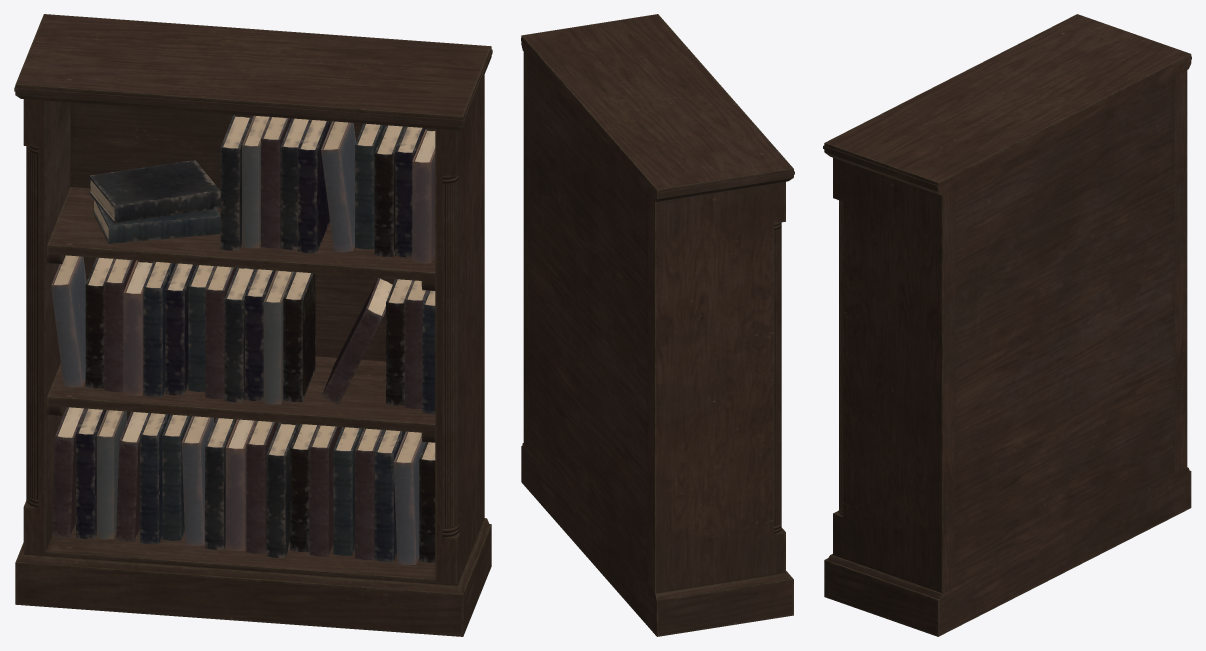
Rendered from books2.glb.
3 views of the same model, side by side, from view 1: azimuth 30°, elevation 25°; view 2: azimuth 150°, elevation 25°; view 3: azimuth 270°, elevation 25° (orthographic). The views are drawn at different scales.
Parts seen in each view (by area): view 1: Victorian Bookcase Small, Victorian Bookcase Small Books 1, Victorian Bookcase Small Books 2, Victorian Bookcase Small Books 4, Victorian Bookcase Small Corner, Victorian Bookcase Small Books 3, Victorian Bookcase Small Books 5; view 2: Victorian Bookcase Small, Victorian Bookcase Small Corner; view 3: Victorian Bookcase Small, Victorian Bookcase Small Corner.
Part boxes in pixels (<box>): Victorian Bookcase Small: <box>14,14,492,636</box>; Victorian Bookcase Small Books 1: <box>52,407,435,565</box>; Victorian Bookcase Small Books 2: <box>51,255,315,404</box>; Victorian Bookcase Small Books 4: <box>220,115,435,263</box>; Victorian Bookcase Small Corner: <box>26,146,458,536</box>; Victorian Bookcase Small Books 3: <box>322,278,435,414</box>; Victorian Bookcase Small Books 5: <box>89,160,220,243</box>; Victorian Bookcase Small: <box>521,14,794,636</box>; Victorian Bookcase Small Corner: <box>774,222,781,533</box>; Victorian Bookcase Small: <box>823,14,1191,636</box>; Victorian Bookcase Small Corner: <box>839,200,842,516</box>.
Size of the model in its own units: 0.9623 by 1.2 by 0.8837.
1 material, 1 textured.
